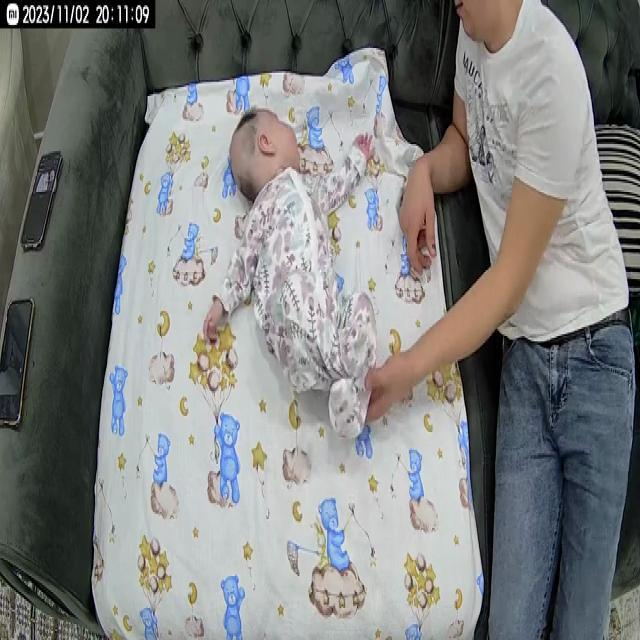baby: (200, 105, 374, 452)
